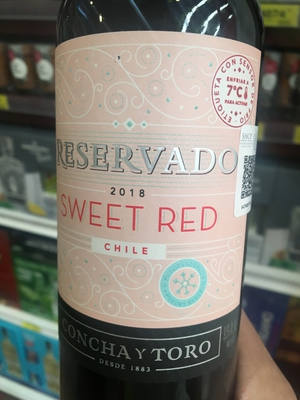reservado sweet red: (55, 6, 263, 400)
